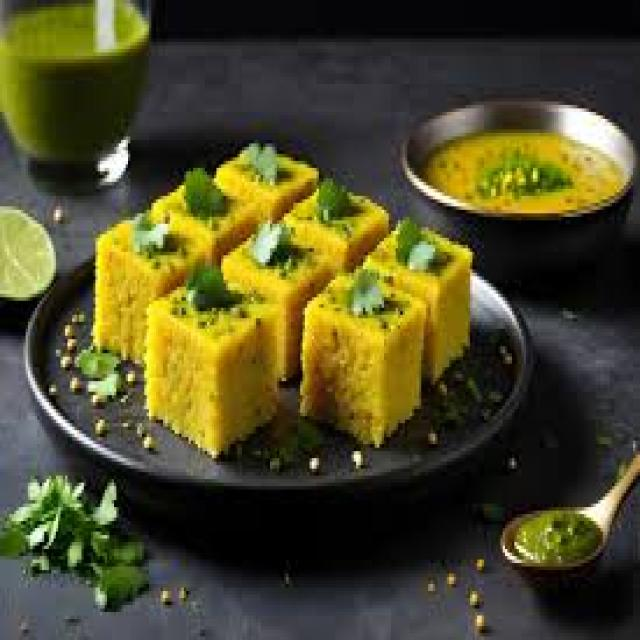DHOKLA: (147, 266, 277, 455), (303, 266, 424, 444), (221, 213, 347, 378), (368, 217, 468, 378), (93, 213, 198, 360), (151, 168, 261, 262)
